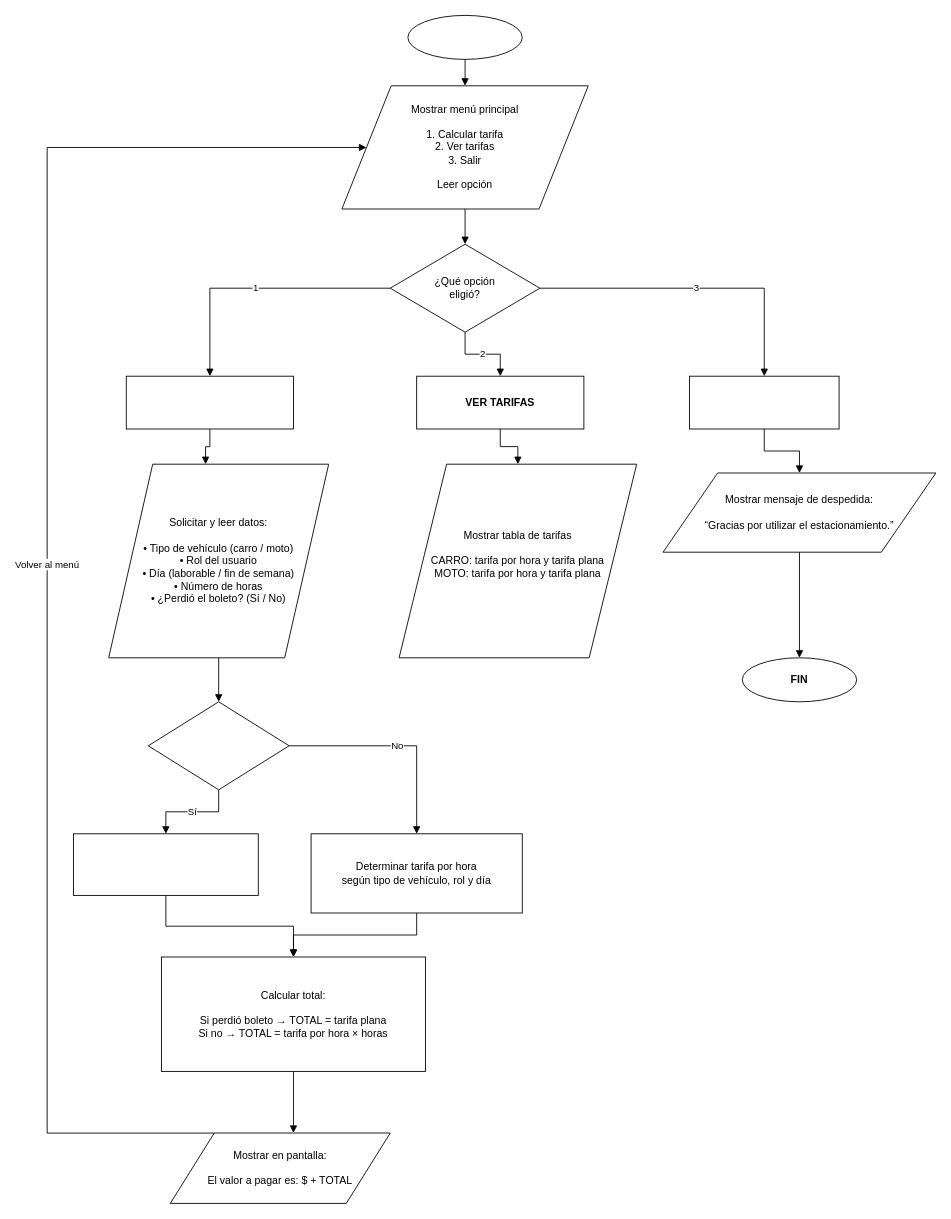
Image size: 951x1219. Some labels were removed from this diagram. The centre of each missing label's shape, as x and y in pixels:
Asignar tarifa plana según el tipo de vehículo: point (165, 864)
CALCULAR TARIFA: point (209, 402)
INICIO: point (464, 37)
SALIR: point (764, 402)
¿Perdió el boleto?: point (218, 745)
